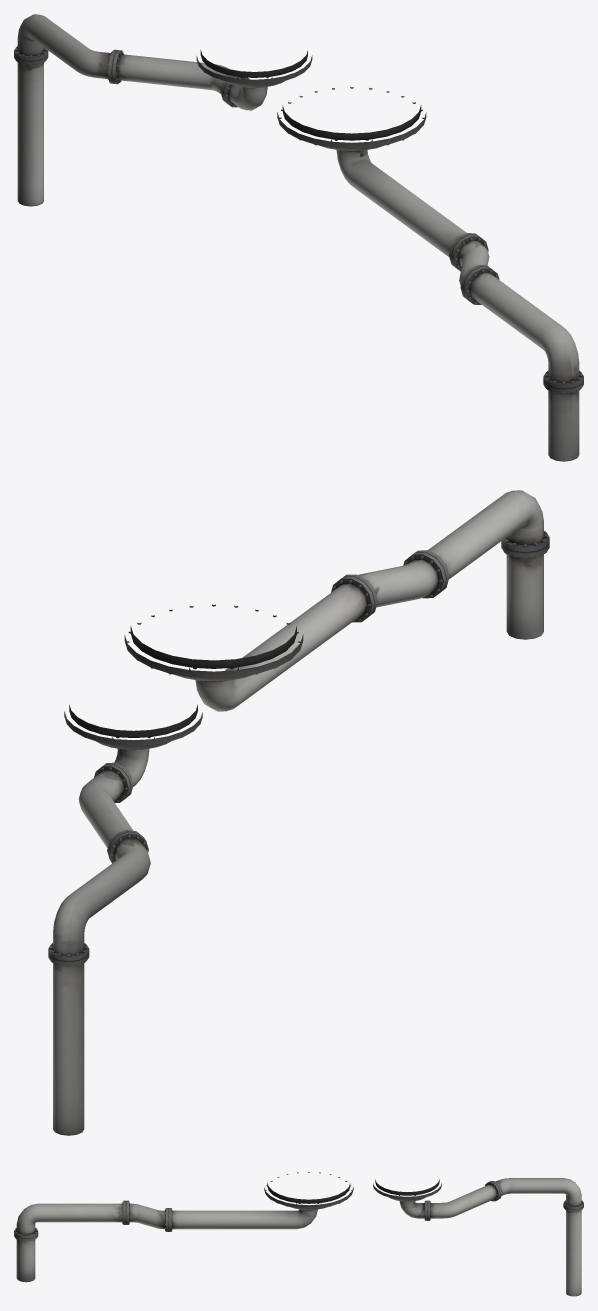
3 views of the same model, one above another, from view 1: azimuth 30°, elevation 25°; view 2: azimuth 150°, elevation 25°; view 3: azimuth 270°, elevation 25° (orthographic). The views are drawn at different scales.
Parts seen in each view (by area): view 1: body0_model0_lod0_mesh0; view 2: body0_model0_lod0_mesh0; view 3: body0_model0_lod0_mesh0.
Boxes of the visible parts, x1=… form: body0_model0_lod0_mesh0: x1=14, y1=14, x2=583, y2=461; body0_model0_lod0_mesh0: x1=48, y1=490, x2=549, y2=1135; body0_model0_lod0_mesh0: x1=14, y1=1172, x2=583, y2=1296.
Bounding box in the file's own units: 181 × 226 × 833.
Materials: 1 (1 with a texture image).
